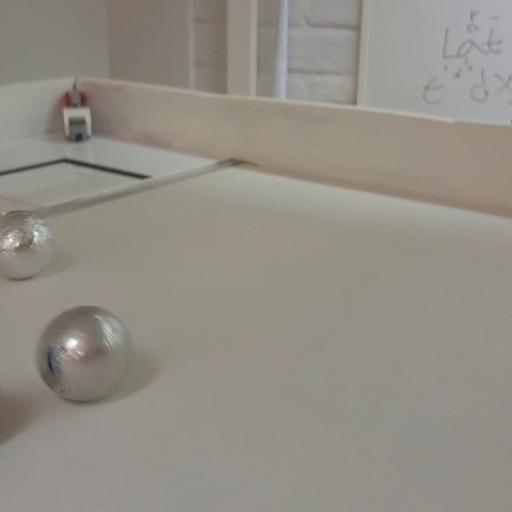alive: (34, 305, 133, 403), (1, 211, 57, 279)
